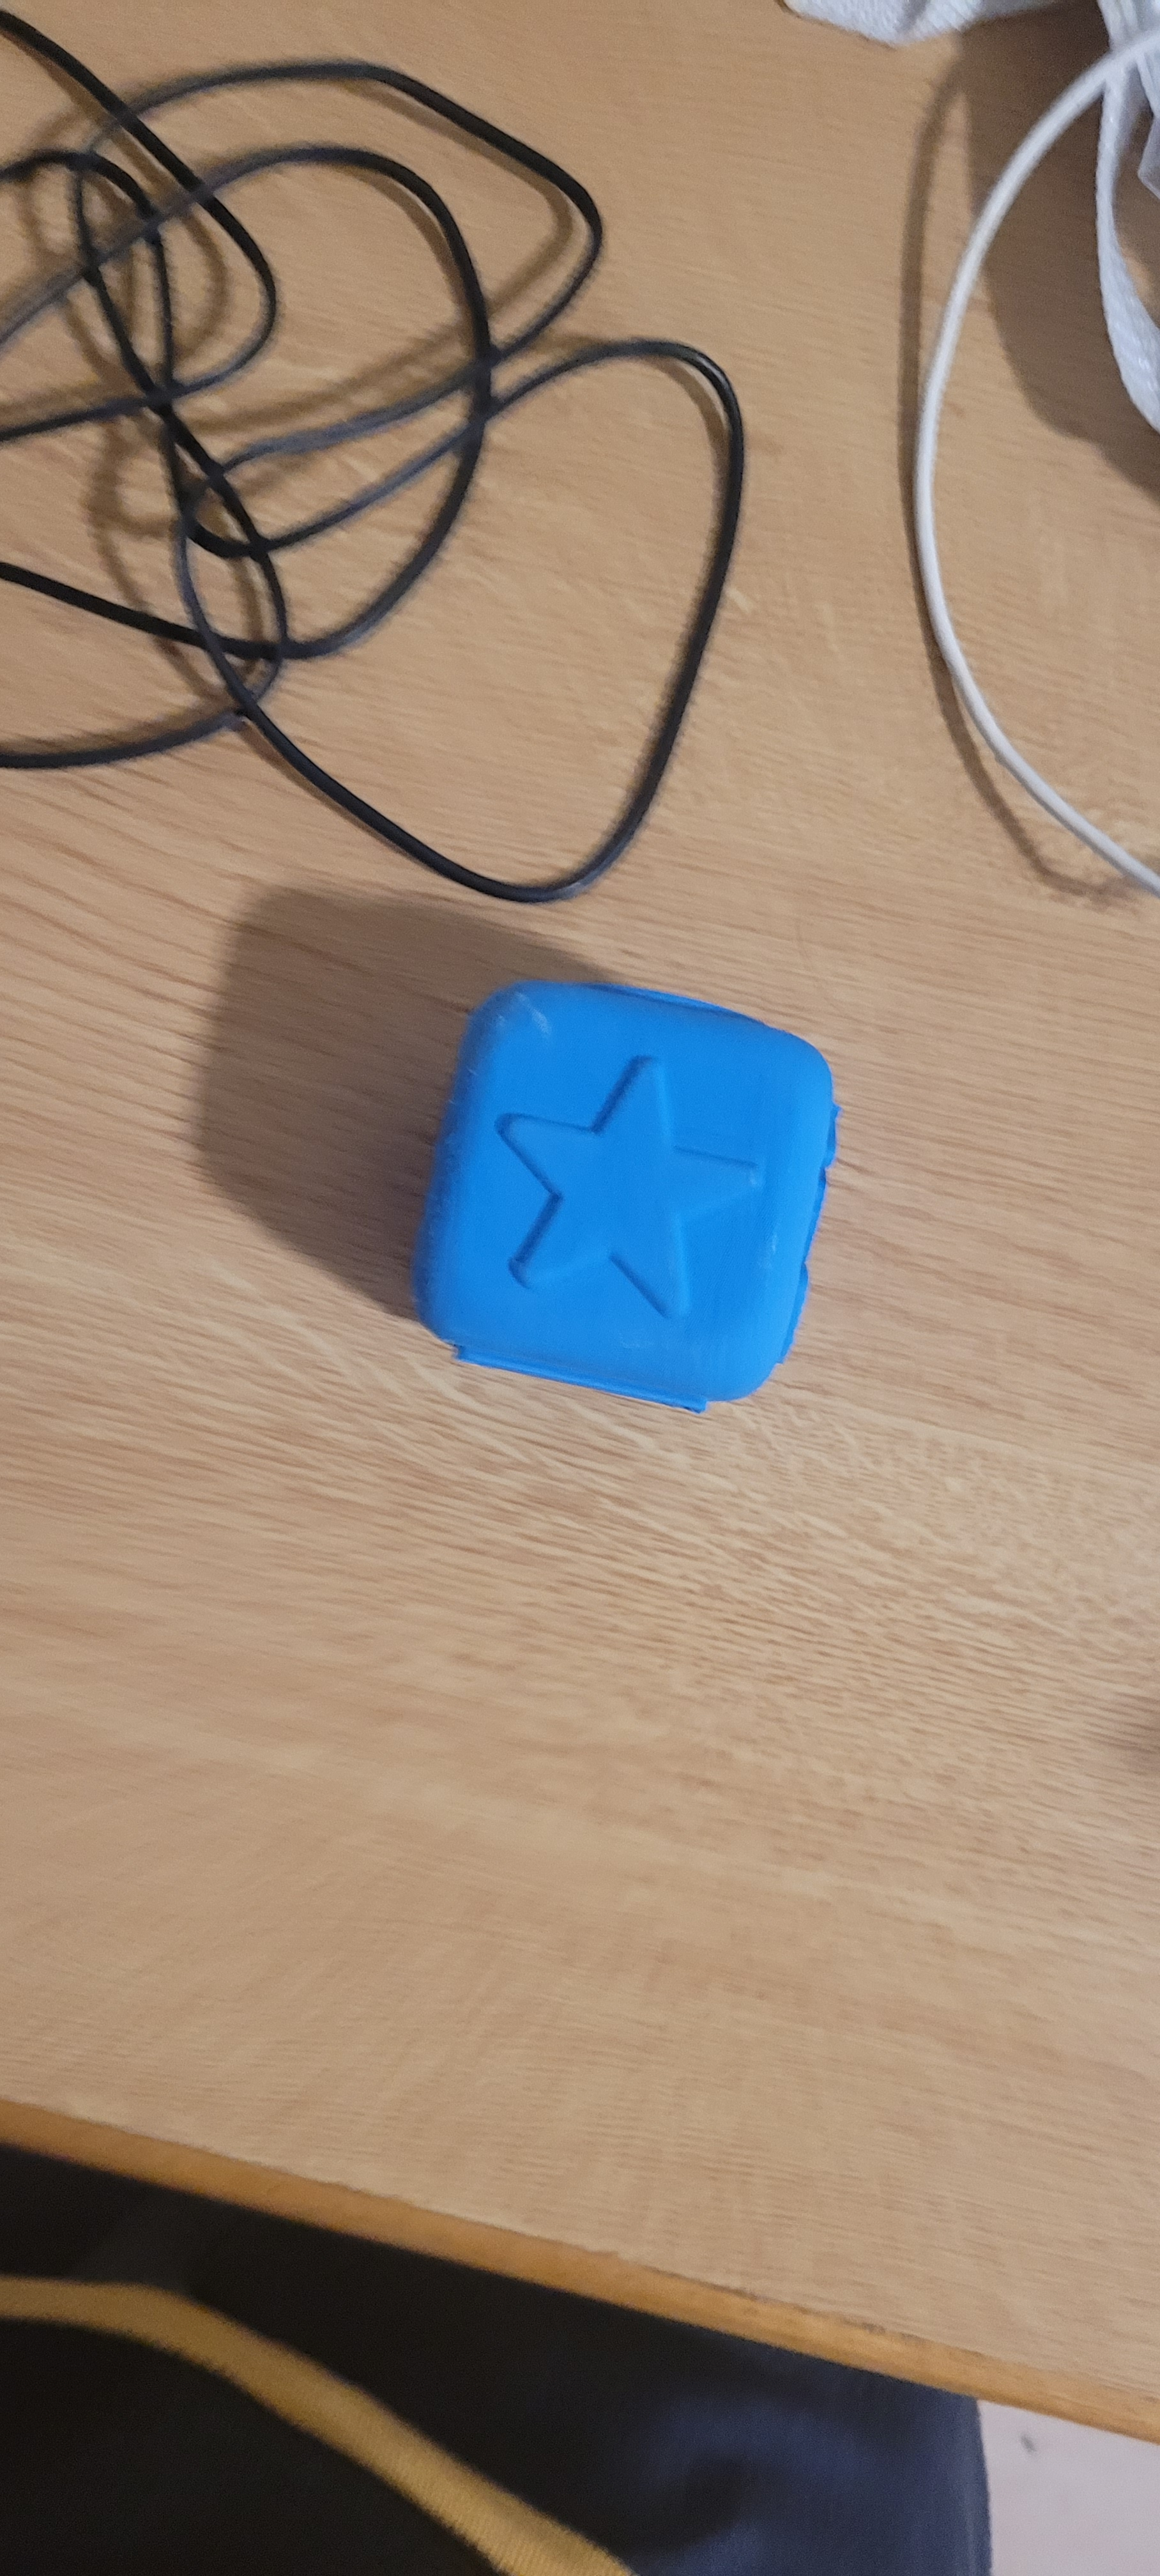Star: (503, 974, 815, 1357)
